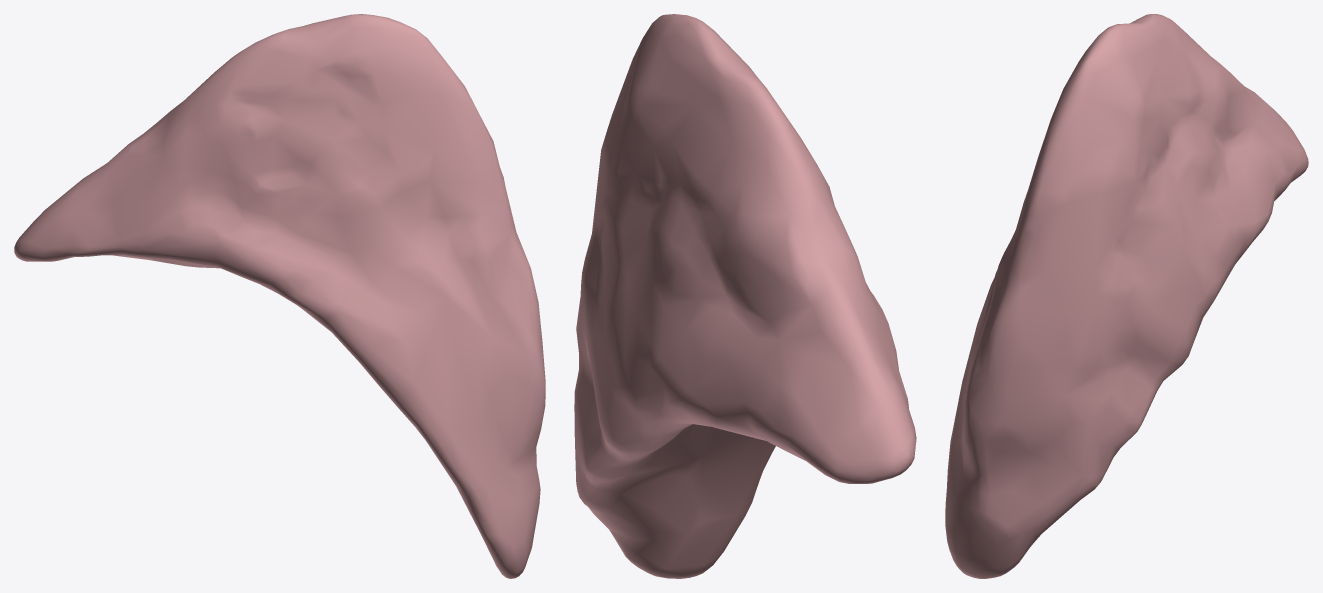
3 renders of one model, left to right at view 1: azimuth 30°, elevation 25°; view 2: azimuth 150°, elevation 25°; view 3: azimuth 270°, elevation 25°, orthographic. The views are drawn at different scales.
Parts seen in each view (by area): view 1: ZA_a342056b09a320a2; view 2: ZA_a342056b09a320a2; view 3: ZA_a342056b09a320a2.
Part boxes in pixels (x1=…): ZA_a342056b09a320a2: x1=14, y1=14, x2=545, y2=578; ZA_a342056b09a320a2: x1=574, y1=14, x2=916, y2=578; ZA_a342056b09a320a2: x1=945, y1=14, x2=1308, y2=578.
Size of the model in its own units: 0.0319 by 0.0423 by 0.0272.
